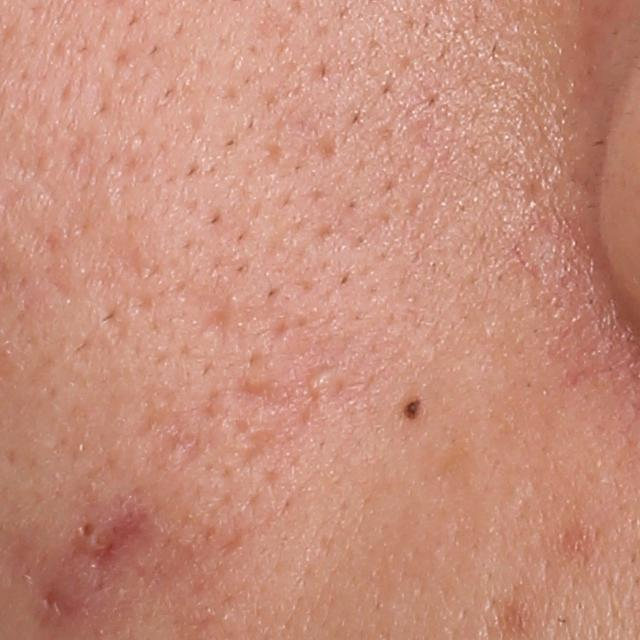atrophic_scar: (235, 378, 322, 413), (223, 411, 273, 464), (199, 287, 233, 343), (40, 582, 73, 617), (271, 320, 290, 341)
comedo: (74, 518, 102, 544)
hypertrophic_scar: (306, 369, 350, 398)
